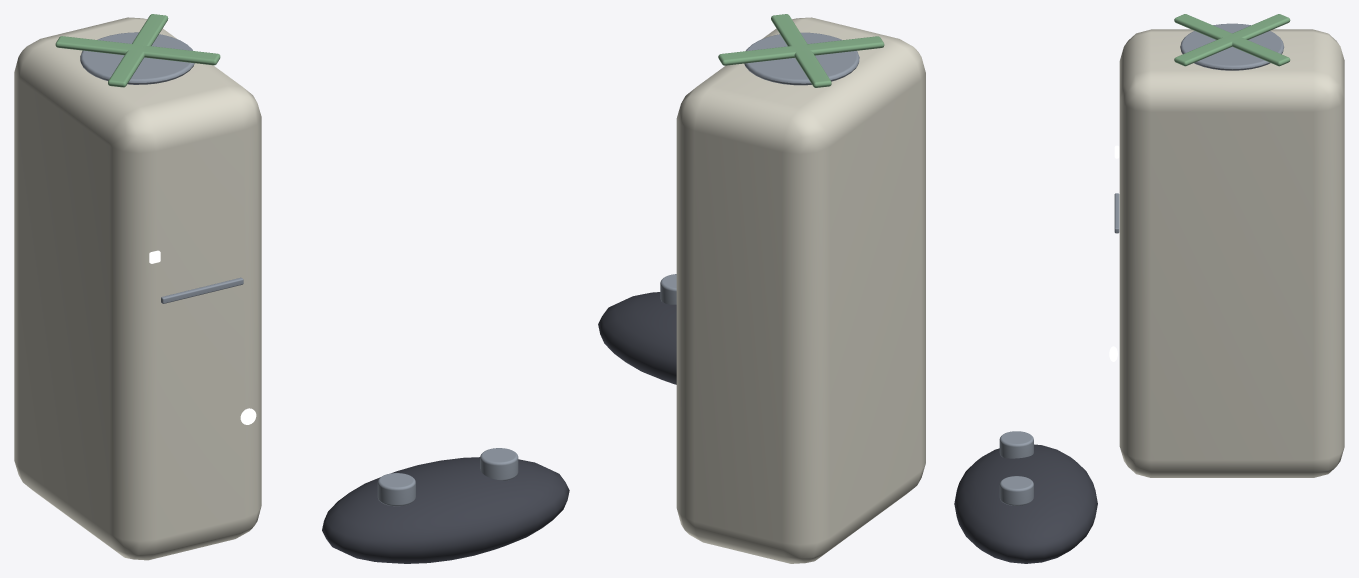
File: consoleXbox360.glb
The picture shows the model from 3 angles, left to right: view 1: azimuth 30°, elevation 25°; view 2: azimuth 150°, elevation 25°; view 3: azimuth 270°, elevation 25°; orthographic projection. The views are drawn at different scales.
Visible parts, largest first — view 1: Console housing, Controller, Disc cover, Cross logo, Cross logo.001, Controller stick, Controller stick.001; view 2: Console housing, Controller, Disc cover, Cross logo.001, Cross logo, Controller stick.001; view 3: Console housing, Controller, Disc cover, Cross logo, Cross logo.001, Controller stick.001, Controller stick.
Part boxes in pixels (x1=…): Console housing: x1=14, y1=17, x2=261, y2=560; Controller: x1=322, y1=457, x2=569, y2=563; Disc cover: x1=80, y1=32, x2=194, y2=84; Cross logo: x1=55, y1=36, x2=220, y2=65; Cross logo.001: x1=108, y1=14, x2=168, y2=87; Controller stick: x1=377, y1=473, x2=415, y2=506; Controller stick.001: x1=480, y1=448, x2=518, y2=480; Console housing: x1=676, y1=17, x2=925, y2=563; Controller: x1=598, y1=292, x2=676, y2=384; Disc cover: x1=744, y1=32, x2=859, y2=85; Cross logo.001: x1=718, y1=36, x2=884, y2=65; Cross logo: x1=771, y1=14, x2=831, y2=87; Controller stick.001: x1=660, y1=274, x2=676, y2=304; Console housing: x1=1119, y1=29, x2=1344, y2=477; Controller: x1=954, y1=444, x2=1097, y2=563; Disc cover: x1=1180, y1=23, x2=1284, y2=70; Cross logo: x1=1174, y1=14, x2=1290, y2=66; Cross logo.001: x1=1174, y1=14, x2=1290, y2=66; Controller stick.001: x1=999, y1=476, x2=1033, y2=505; Controller stick: x1=999, y1=431, x2=1033, y2=458.
Size of the model in its own units: 1.27 by 1.48 by 1.25.
